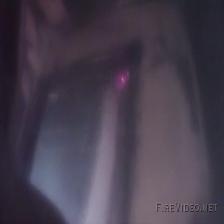nofire: (113, 64, 136, 99)
